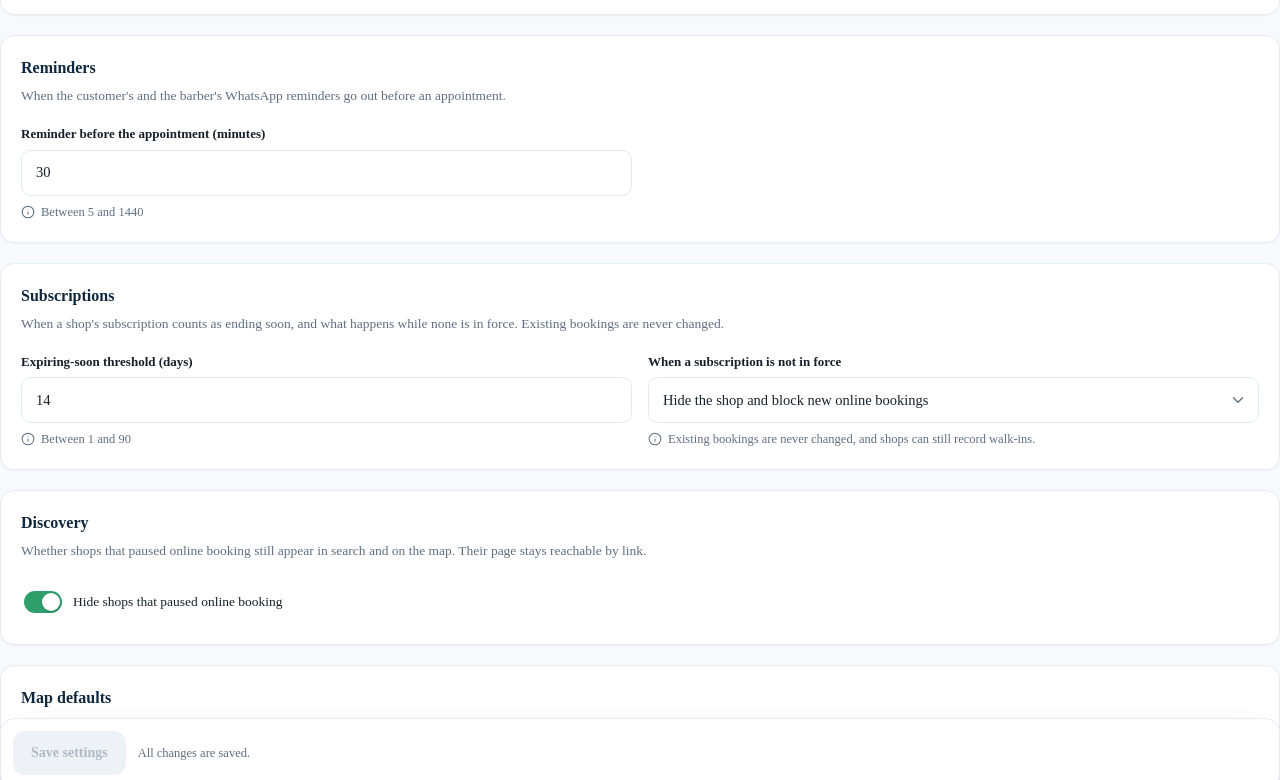
Scenario: PlatformSettingsForm › saves the typed values with the version
The image size is (1280, 780).
(page scrolled)
Replace the text in the field labelled "Expiring-soon threshold (days)" with "21" at (326, 400), box [21,377,632,423]
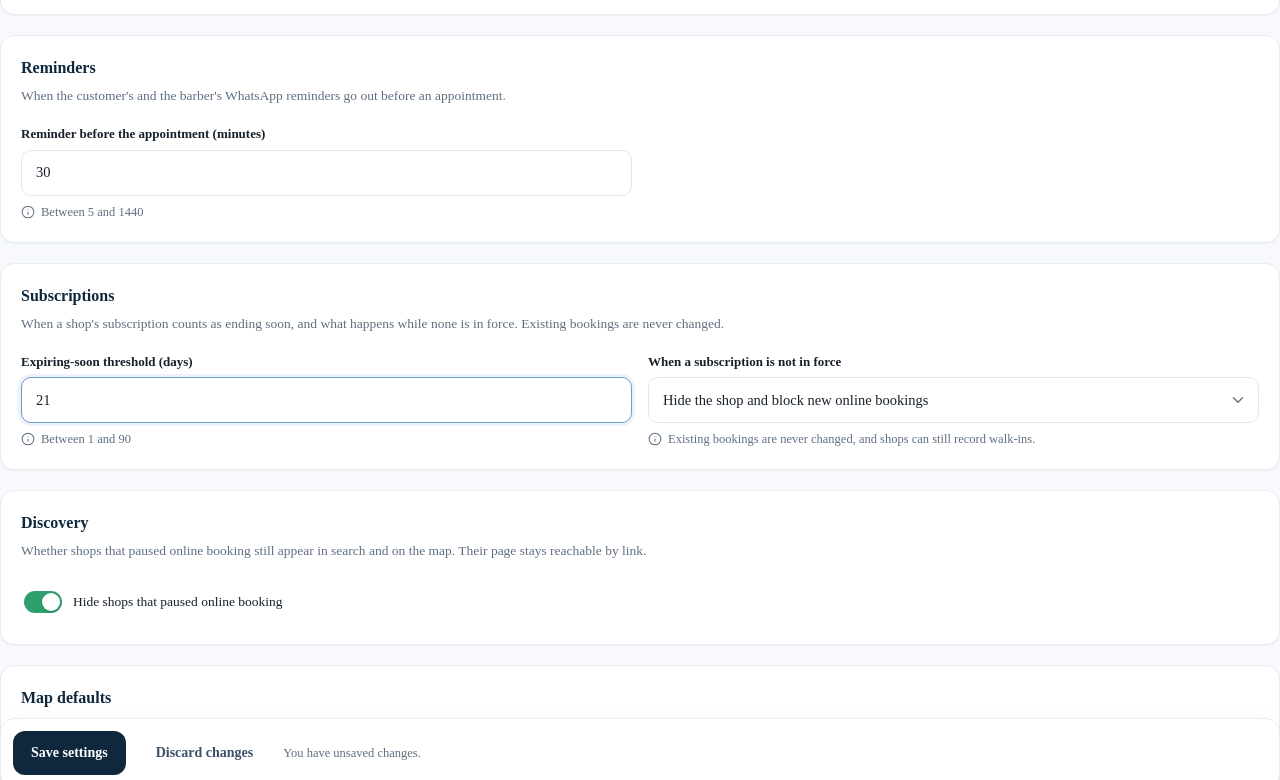
Select "Show a warning only" in the dropdown labelled "When a subscription is not in force" at (954, 400), box [648,377,1259,423]
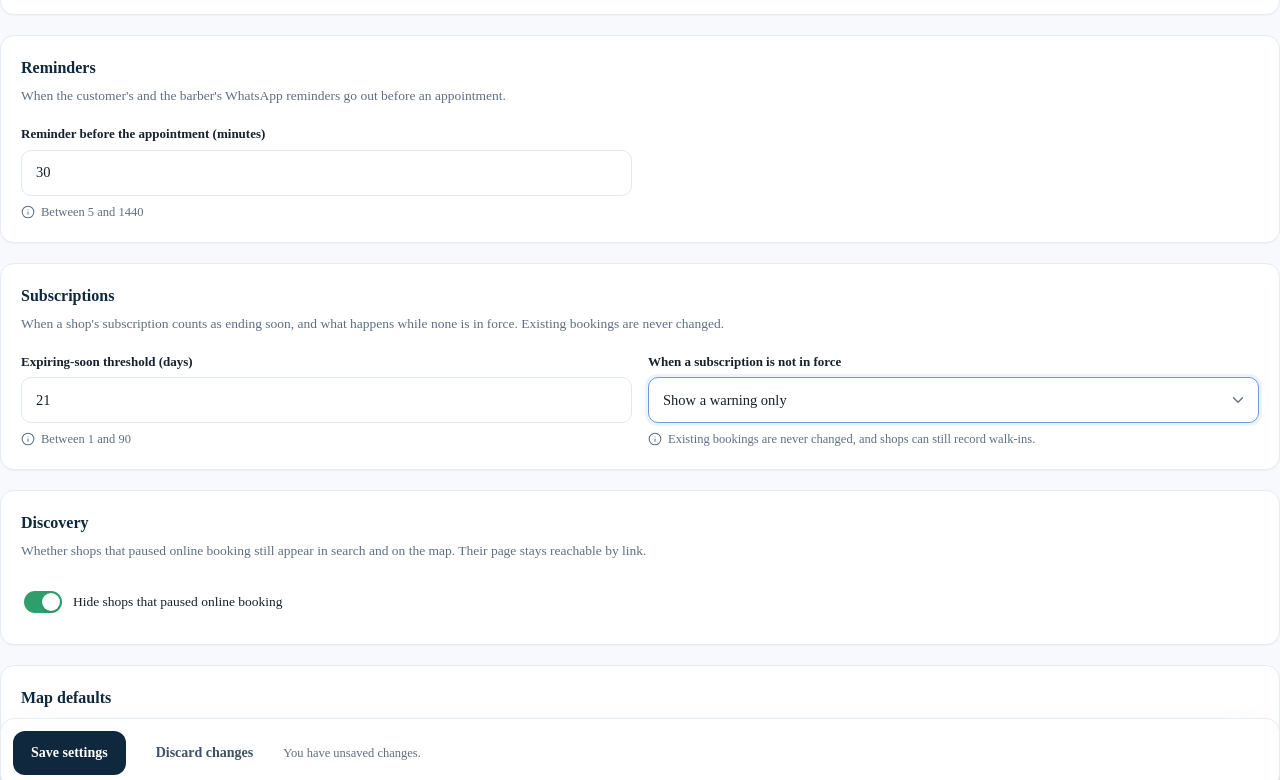
Click the button "Save settings".
click(69, 753)  # box [13,731,126,775]
(page scrolled)
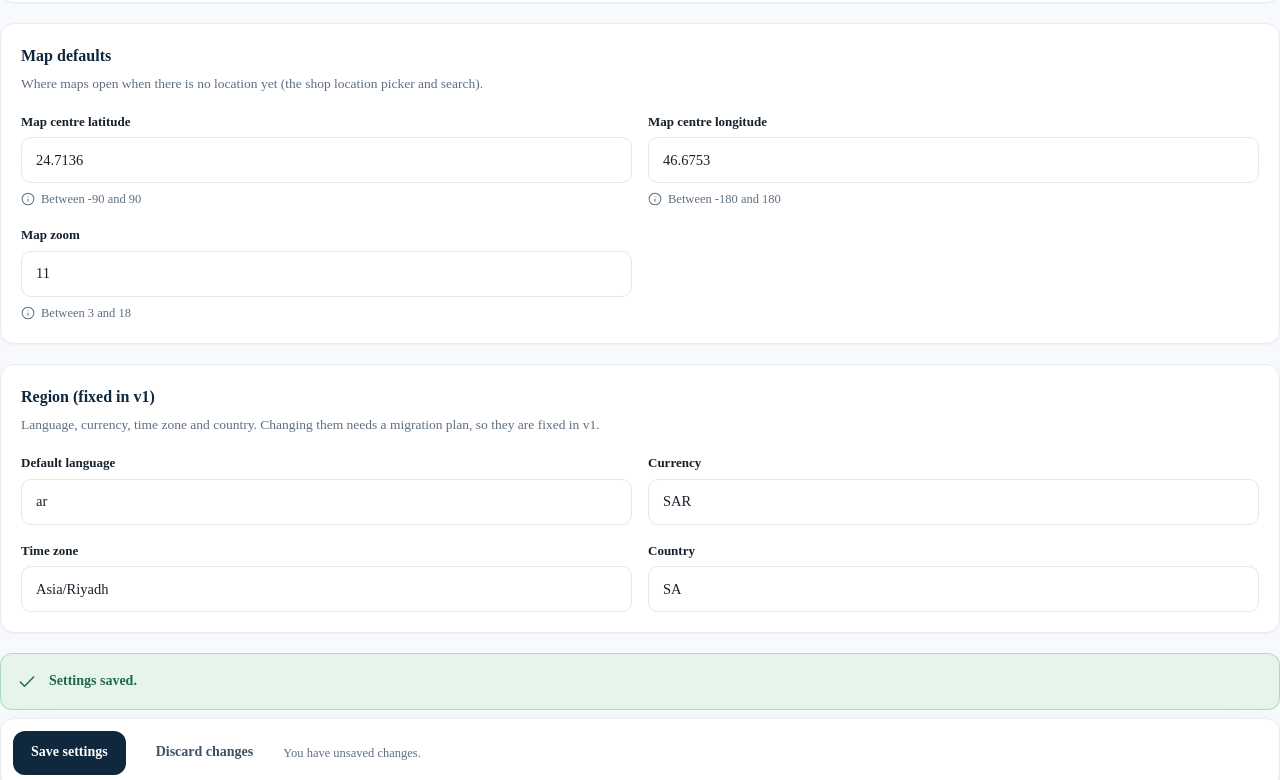
Now the text "Settings saved." is shown, box [49,673,137,688]
